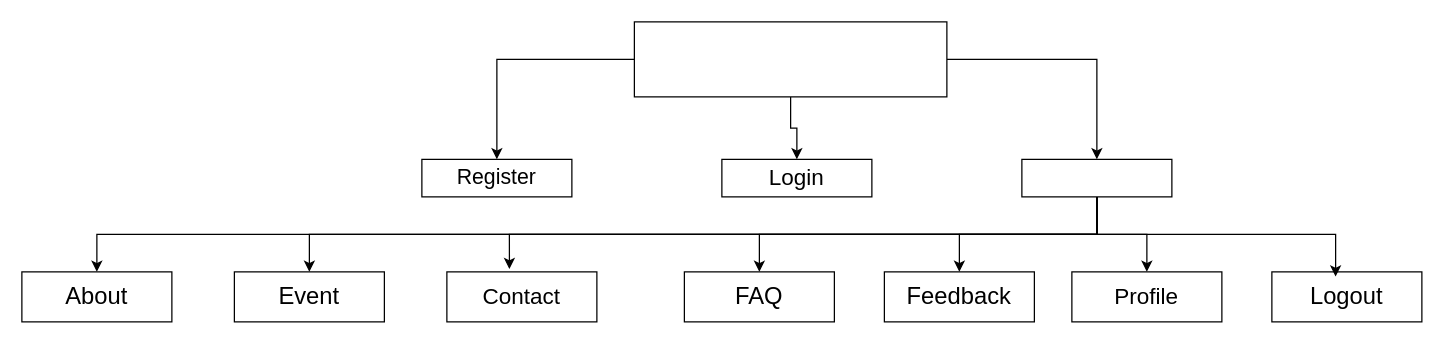
Some shapes in this 1444 by 344 pixel diagram are drawn without their labels. Each missing label, with the box of its shape:
Dashboard: (1021, 158, 1172, 197)
STUDENTHUB PORTAL: (633, 21, 947, 97)
